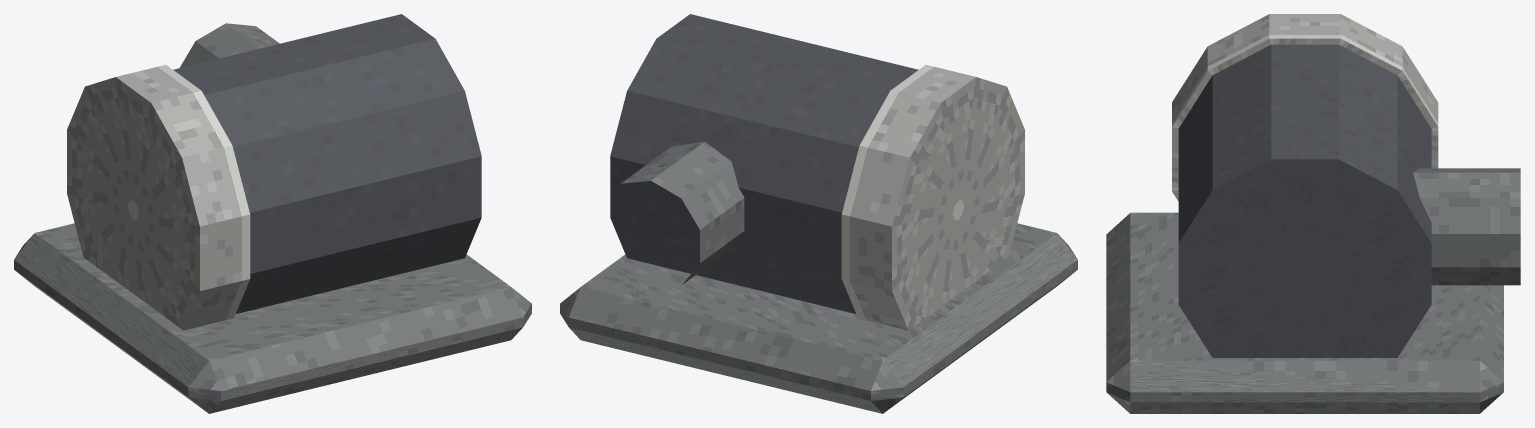
File: well_pump.glb
3 renders of one model, left to right at view 1: azimuth 30°, elevation 25°; view 2: azimuth 150°, elevation 25°; view 3: azimuth 270°, elevation 25°, orthographic.
Parts seen in each view (by area): view 1: block_cast pump body, block_pump foot, block_impeller cover, block_coupling; view 2: block_cast pump body, block_pump foot, block_impeller cover, block_coupling; view 3: block_cast pump body, block_pump foot, block_coupling, block_impeller cover.
Boxes of the visible parts, left/top/right/bottom form: block_cast pump body: left=173, top=14, right=481, bottom=313; block_pump foot: left=14, top=223, right=531, bottom=413; block_impeller cover: left=67, top=64, right=250, bottom=330; block_coupling: left=180, top=23, right=279, bottom=67; block_cast pump body: left=610, top=14, right=918, bottom=313; block_pump foot: left=560, top=223, right=1077, bottom=413; block_impeller cover: left=841, top=64, right=1024, bottom=330; block_coupling: left=621, top=141, right=744, bottom=284; block_cast pump body: left=1178, top=44, right=1431, bottom=357; block_pump foot: left=1106, top=212, right=1503, bottom=413; block_coupling: left=1413, top=168, right=1520, bottom=285; block_impeller cover: left=1172, top=14, right=1438, bottom=201.
Bounding box in the file's own units: 0.1804 × 0.1291 × 0.188.
1 material, 1 textured.
